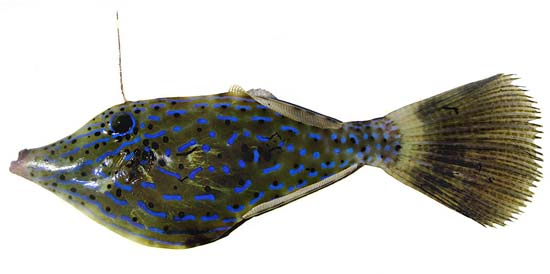Aluterus_scriptus: (11, 53, 547, 252)
